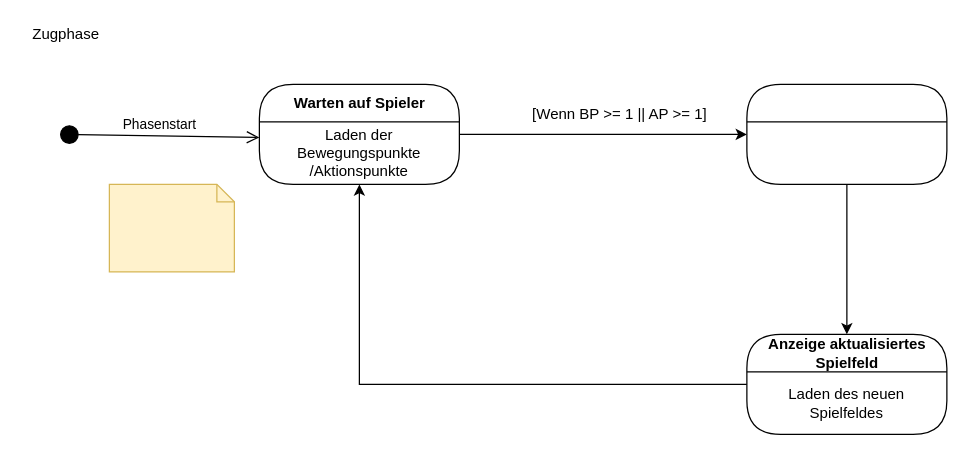
The diagram is 969 pixels wide and 456 high, and some of its shapes have lost their labels. The shapes that lost their labels are listed below. From the top down, each one's centre as x and y in pixels, then its label:
(846,133): Durchführung der Aktion
(171,227): BP = Bewegungspunkte AP = Aktionspunkte
